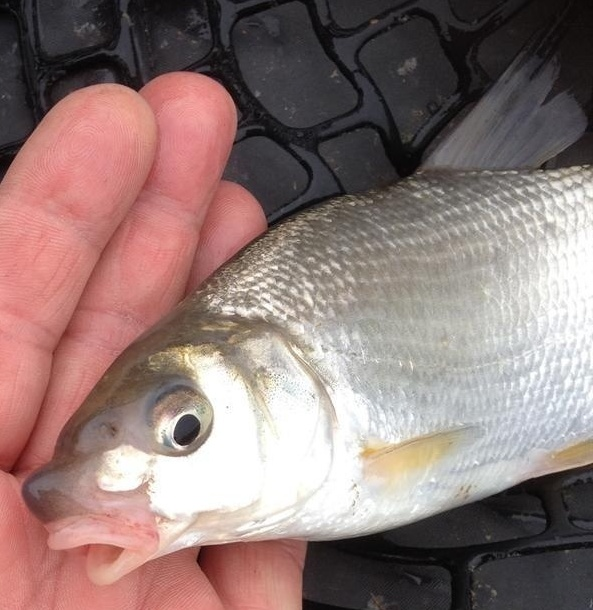Vimba vimba: (20, 20, 593, 590)
